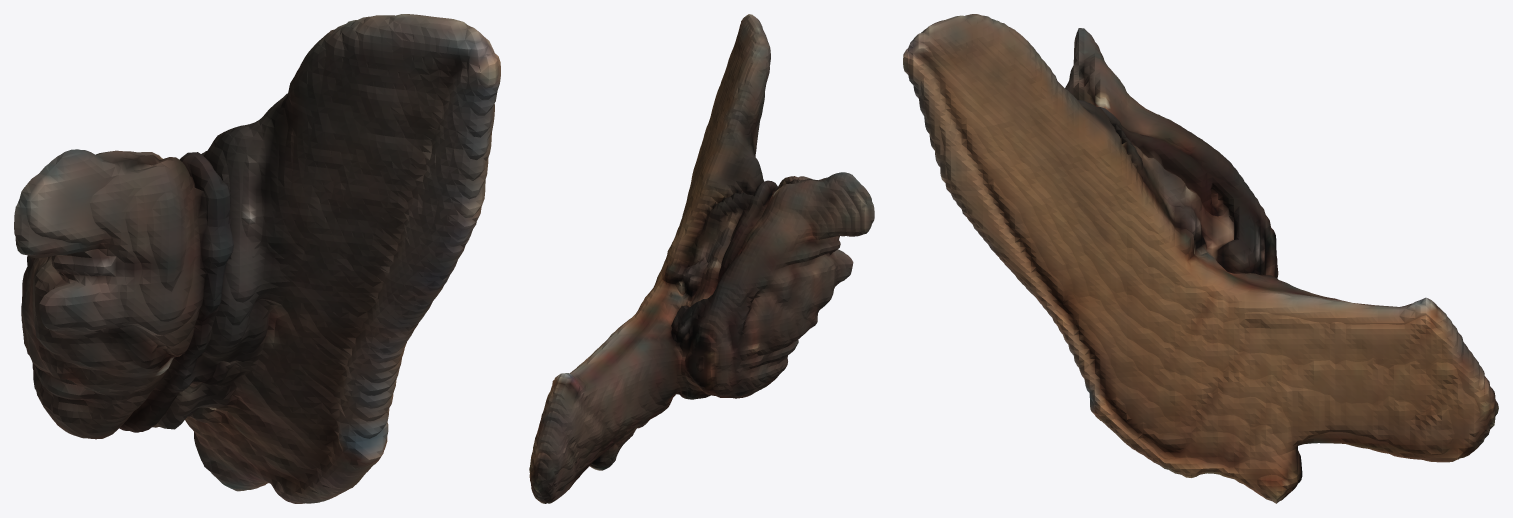
3 views of the same model, side by side, from view 1: azimuth 30°, elevation 25°; view 2: azimuth 150°, elevation 25°; view 3: azimuth 270°, elevation 25° (orthographic). The views are drawn at different scales.
Bounding box in the file's own units: 0.4073 × 0.653 × 0.7614.
